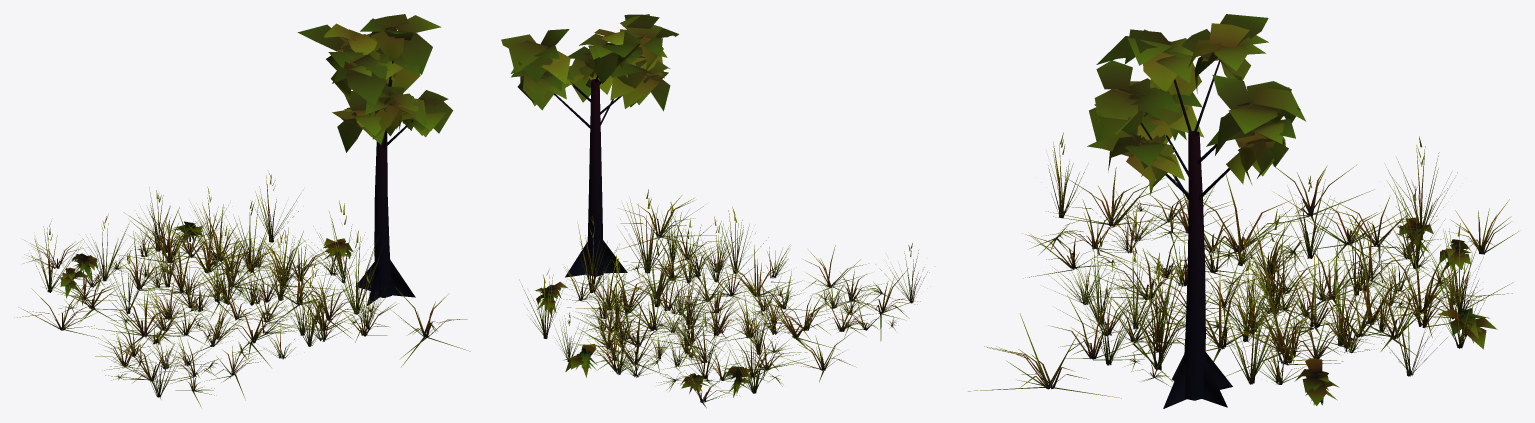
The model's file is patch_elephant.glb.
3 views of the same model, side by side, from view 1: azimuth 30°, elevation 25°; view 2: azimuth 150°, elevation 25°; view 3: azimuth 270°, elevation 25° (orthographic). The views are drawn at different scales.
Visible parts, largest first — view 1: patch_elephant; view 2: patch_elephant; view 3: patch_elephant.
Part boxes in pixels (x1,y1,x2,y2): patch_elephant: (14, 14, 470, 407); patch_elephant: (501, 14, 929, 408); patch_elephant: (968, 14, 1518, 408).
Bounding box in the file's own units: 19.42 × 12.86 × 17.63.
Materials: 1 (1 with a texture image).
